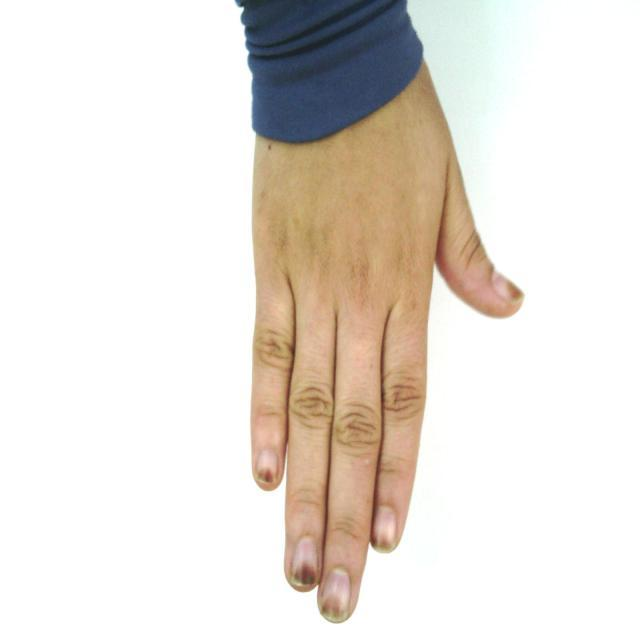Fingernail: (321, 568, 350, 623), (291, 536, 318, 588), (374, 506, 397, 552), (493, 272, 523, 303), (257, 450, 278, 484)
